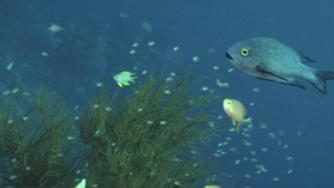Lutjanidae -Snappers-: (222, 31, 334, 100)
Pomacentridae -Damselfishes-: (111, 69, 142, 91)
